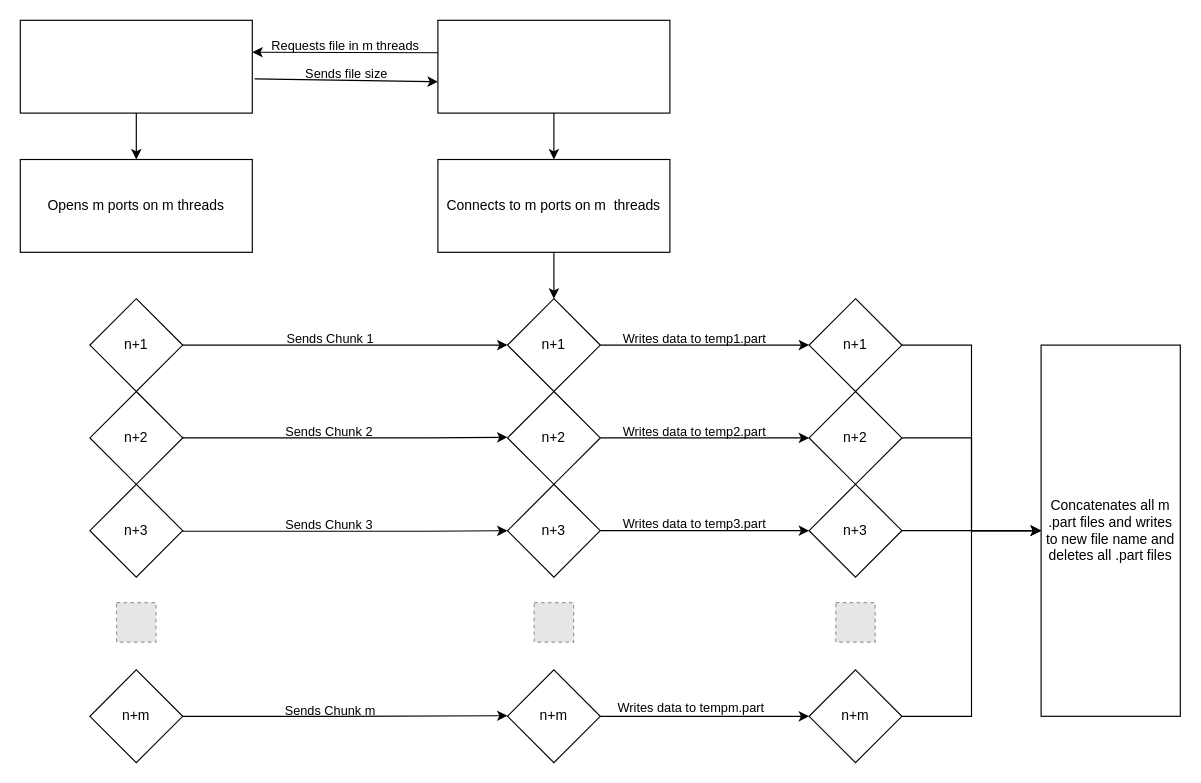
The diagram is 1201 pixels wide and 783 high, and some of its shapes have lost their labels. Grey dashed boxes stand in for pictures. Each missing label, with the centre of its shape:
"Client connected at port n" goes at point (553, 66).
"Server bound at port n" goes at point (135, 66).
